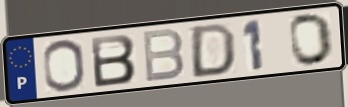1: (241, 18, 267, 72)
B: (88, 32, 138, 90), (140, 27, 186, 85)
D: (188, 21, 238, 80)
O: (287, 12, 336, 68), (41, 38, 88, 93)
